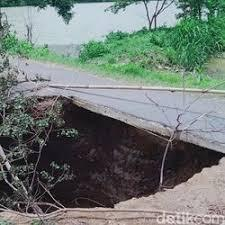Pothole: (0, 74, 223, 225)
